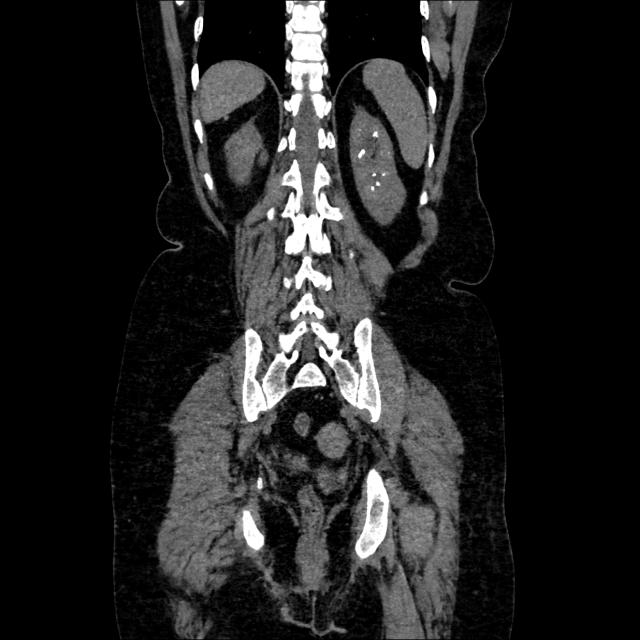kidney: (346, 103, 409, 229), (224, 111, 271, 193)
stone: (356, 146, 366, 162), (370, 127, 380, 142), (369, 182, 376, 194), (370, 169, 378, 179), (374, 180, 382, 188)
